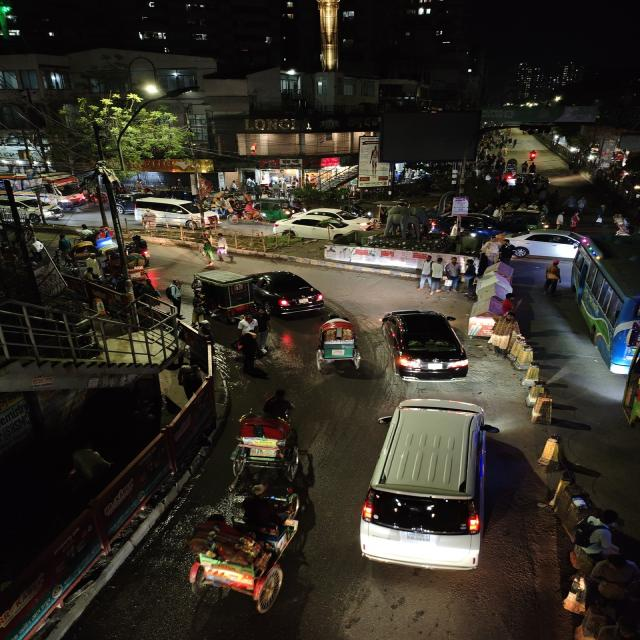bicycle: (515, 360, 563, 426)
bus: (571, 245, 640, 376)
car: (360, 397, 505, 577), (374, 307, 470, 383), (246, 268, 328, 316), (268, 207, 376, 235), (136, 196, 212, 230), (509, 229, 588, 260)
motorcycle: (127, 235, 154, 268), (528, 148, 540, 160)
pedestrian: (566, 510, 621, 568), (232, 330, 264, 374), (417, 256, 446, 294), (461, 258, 482, 300), (541, 258, 563, 296), (443, 258, 463, 292), (197, 237, 215, 267), (212, 234, 230, 264), (592, 204, 607, 228), (554, 210, 566, 230)
rickshaw: (183, 498, 310, 616), (225, 389, 309, 477), (308, 313, 370, 376), (192, 273, 251, 316)
